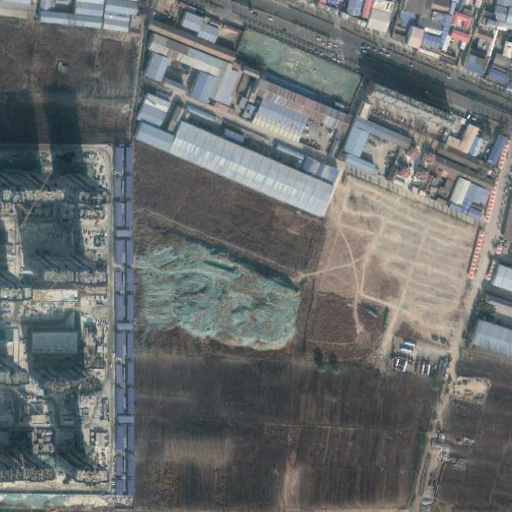cw: (132, 230, 300, 351)
